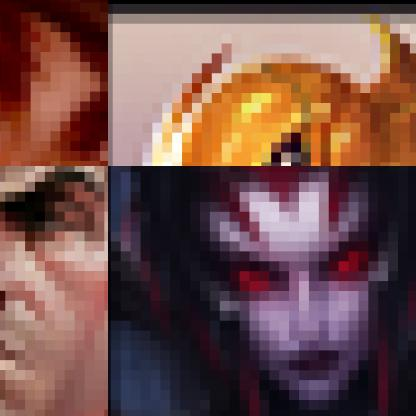Azir: (108, 0, 415, 165)
Elise: (108, 166, 415, 415)
Swain: (0, 166, 107, 415)
Taliyah: (0, 0, 107, 165)
